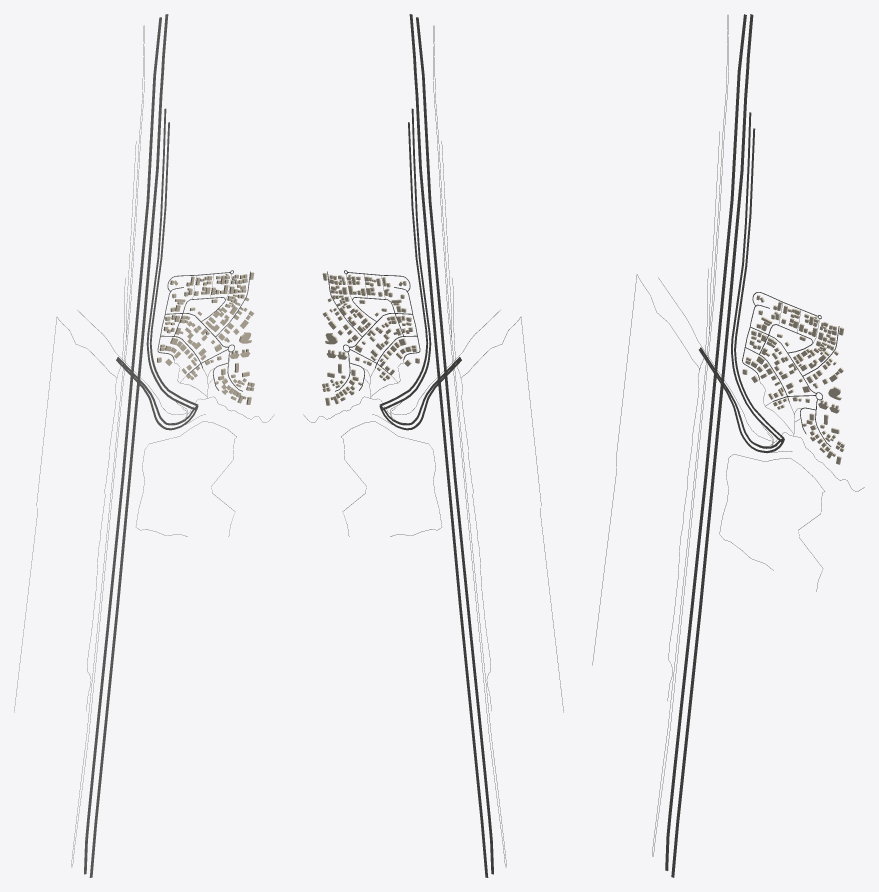
The model's file is historic-palestine-07_26_3493_3209.glb.
The picture shows the model from 3 angles, left to right: view 1: azimuth 30°, elevation 25°; view 2: azimuth 150°, elevation 25°; view 3: azimuth 330°, elevation 25°; orthographic projection. The views are drawn at different scales.
Parts seen in each view (by area): view 1: Road כביש חוצה ישראל.001, Road כביש חוצה ישראל, Road המסילה המזרחית, Road המסילה המזרחית.001, Road 444.001, Road 444.002; view 2: Road כביש חוצה ישראל.001, Road כביש חוצה ישראל, Road המסילה המזרחית, Road המסילה המזרחית.001, Road 444.001, Road 444.002; view 3: Road כביש חוצה ישראל.001, Road כביש חוצה ישראל, Road 444.001, Road המסילה המזרחית.001, Road המסילה המזרחית, Road 444.002.
Part boxes in pixels (x1,y1,x2,y2): Road כביש חוצה ישראל.001: [89, 14, 168, 877]; Road כביש חוצה ישראל: [84, 17, 161, 874]; Road המסילה המזרחית: [71, 26, 143, 867]; Road המסילה המזרחית.001: [72, 25, 144, 866]; Road 444.001: [149, 122, 198, 405]; Road 444.002: [146, 108, 173, 399]; Road כביש חוצה ישראל.001: [409, 14, 488, 877]; Road כביש חוצה ישראל: [416, 17, 493, 874]; Road המסילה המזרחית: [434, 26, 506, 867]; Road המסילה המזרחית.001: [433, 25, 505, 866]; Road 444.001: [379, 122, 428, 405]; Road 444.002: [404, 108, 431, 399]; Road כביש חוצה ישראל.001: [671, 14, 753, 877]; Road כביש חוצה ישראל: [665, 14, 746, 870]; Road 444.001: [734, 128, 784, 439]; Road המסילה המזרחית.001: [653, 15, 728, 856]; Road המסילה המזרחית: [652, 15, 727, 856]; Road 444.002: [731, 112, 758, 419].
Bounding box in the file's own units: 1104 × 3419 × 8.7.
